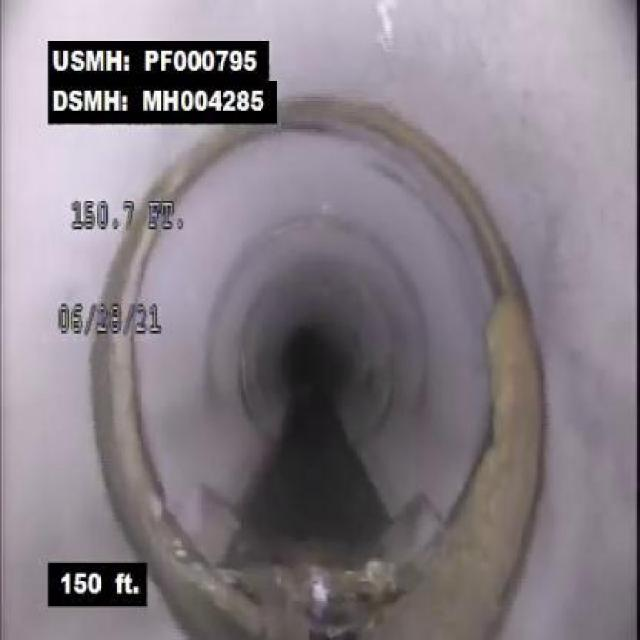Debris: (182, 489, 469, 637)
